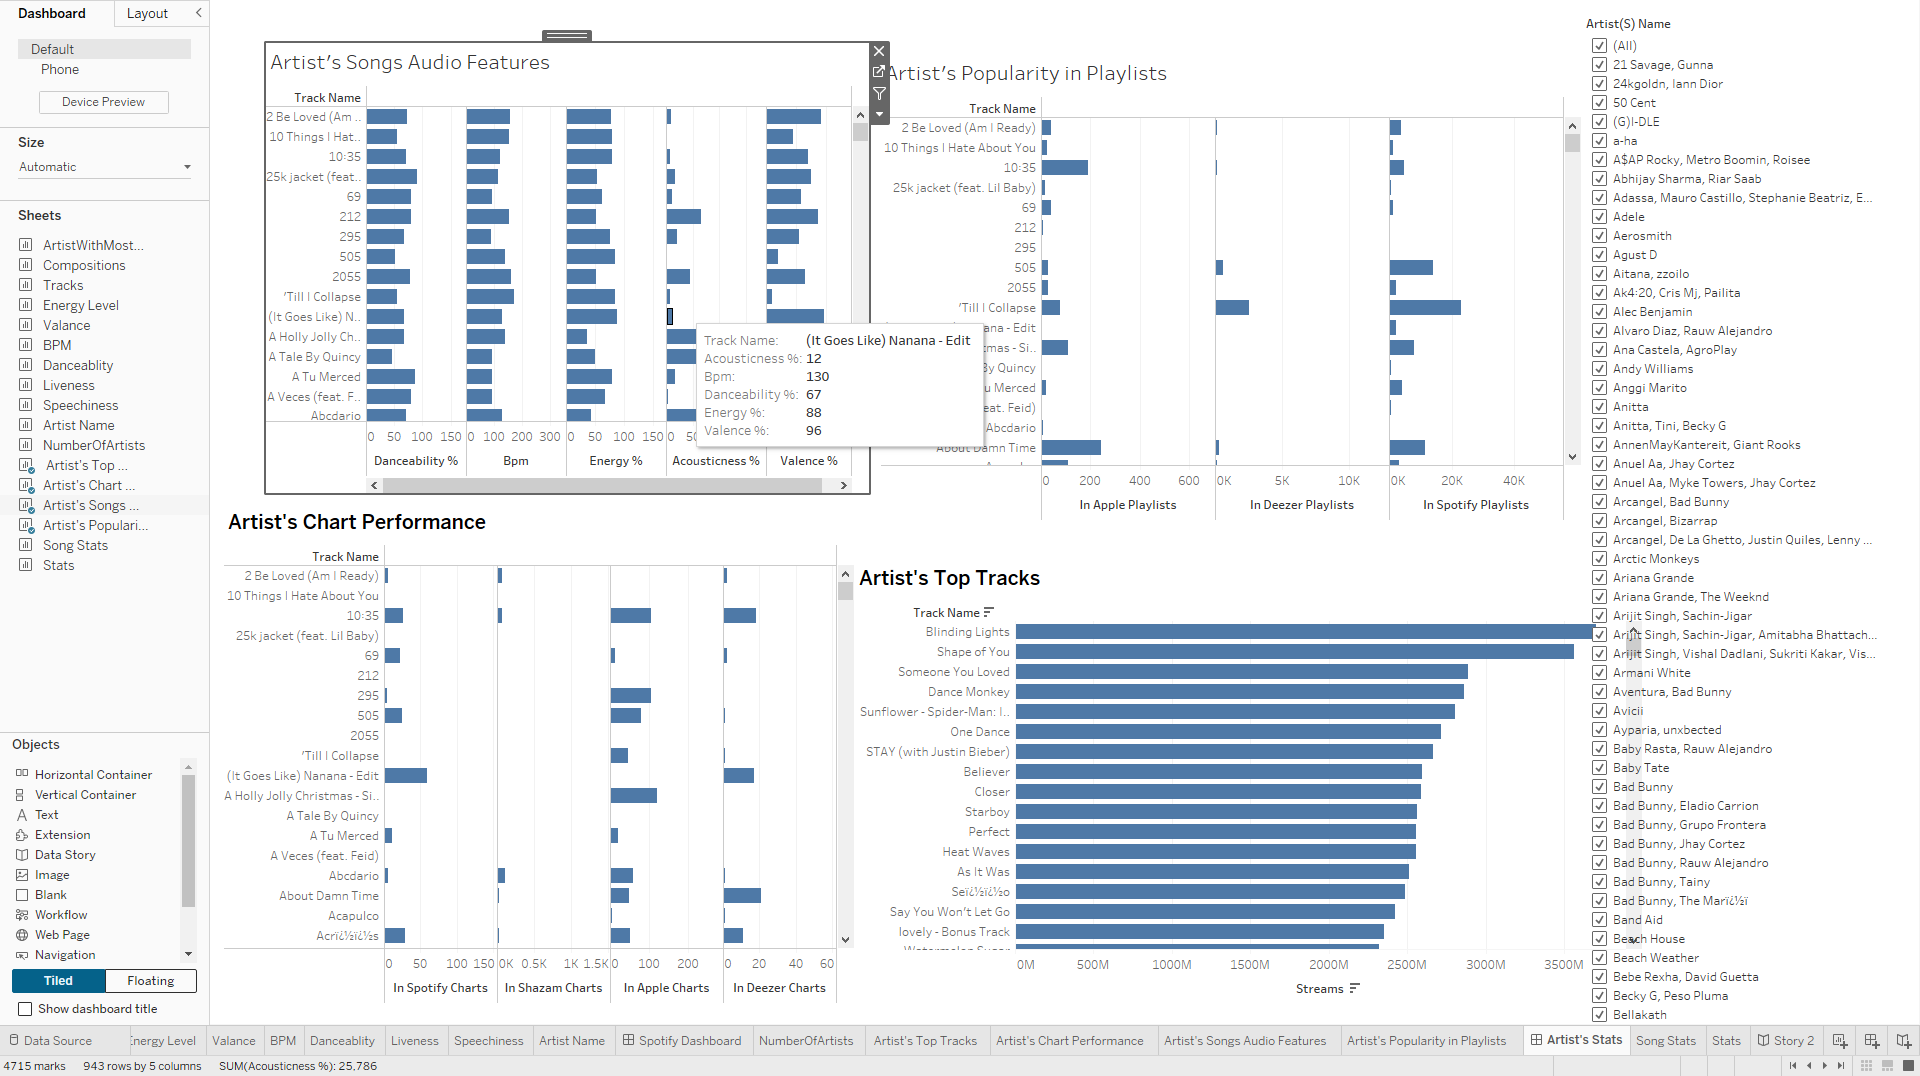

What the dashboard file says about the page in this screenshot:
{"tool":"tableau","page":{"name":"Artist's Stats","canvas":[1000,1000],"units":"permille","ordinal":0},"visuals":[{"type":"worksheet","title":"Artist's Songs Audio Features","mark":"Automatic","rows":["track_name"],"cols":["danceability_%","bpm","energy_%","acousticness_%","valence_%"],"box":[33,41.6,352.8,440.1]},{"type":"worksheet","title":"Artist's Popularity in Playlists","mark":"Automatic","rows":["track_name"],"cols":["in_apple_playlists","in_deezer_playlists","in_spotify_playlists"],"box":[392.4,52.6,409.9,456]},{"type":"worksheet","title":"Artist's Chart Performance","mark":"Automatic","rows":["track_name"],"cols":["in_spotify_charts","in_shazam_charts","in_apple_charts","in_deezer_charts"],"box":[8.4,493.9,368.4,486.6]},{"type":"worksheet","title":" Artist's Top Tracks","mark":"Automatic","rows":["track_name"],"cols":["streams"],"box":[377.4,548.9,460.3,431.5]}]}

Visuals, with their boxes on the dashboard's canvas, which has no fixed pixel size, in thousandths of its width and height (x1, y1, x2, y2). These are canvas units, not pixel positions in the 1920x1076 screenshot, which may show the page scaled, cropped or inside an application window:
"Artist's Songs Audio Features" worksheet: box=[33, 42, 386, 482]
"Artist's Popularity in Playlists" worksheet: box=[392, 53, 802, 509]
"Artist's Chart Performance" worksheet: box=[8, 494, 377, 980]
" Artist's Top Tracks" worksheet: box=[377, 549, 838, 980]
